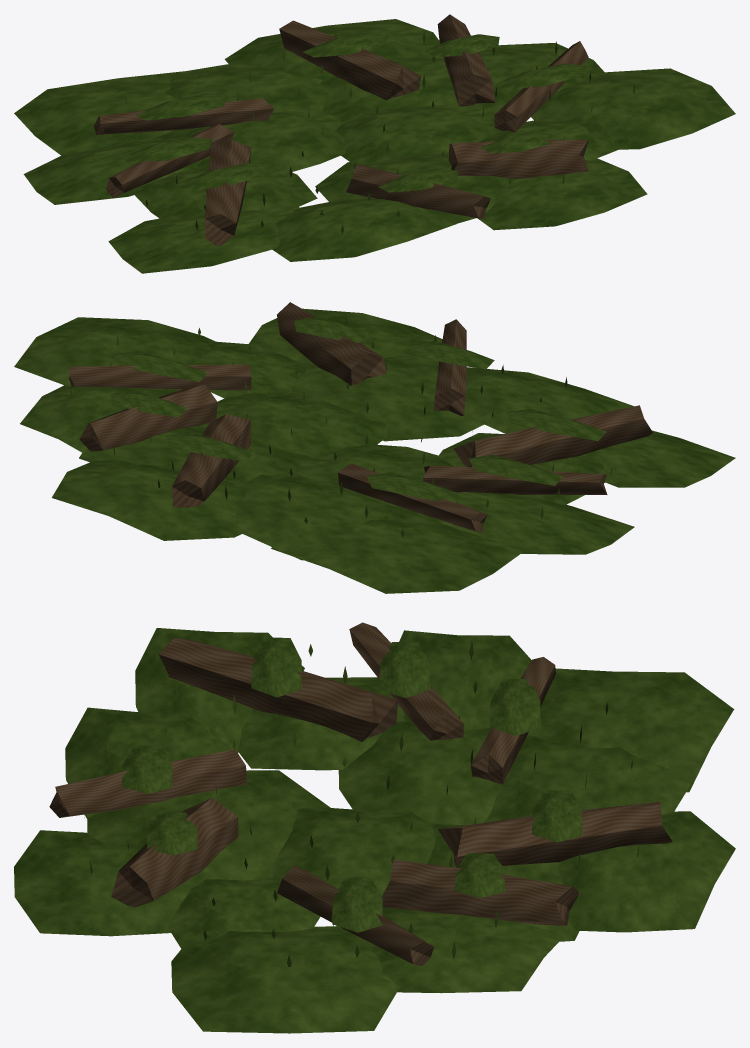
Rendered from Moss_Deadwood_Patch_01_LOD1.fbx.
3 renders of one model, top to bottom at view 1: azimuth 30°, elevation 25°; view 2: azimuth 150°, elevation 25°; view 3: azimuth 270°, elevation 25°, orthographic. The views are drawn at different scales.
Parts seen in each view (by area): view 1: Moss_Deadwood_Patch_01_LOD1_Mesh; view 2: Moss_Deadwood_Patch_01_LOD1_Mesh; view 3: Moss_Deadwood_Patch_01_LOD1_Mesh.
Boxes of the visible parts, x1,y1,x2,y2 form: Moss_Deadwood_Patch_01_LOD1_Mesh: (14,14,735,273); Moss_Deadwood_Patch_01_LOD1_Mesh: (14,302,735,593); Moss_Deadwood_Patch_01_LOD1_Mesh: (14,622,735,1033).
Size of the model in its own units: 182 by 13.2 by 136.
